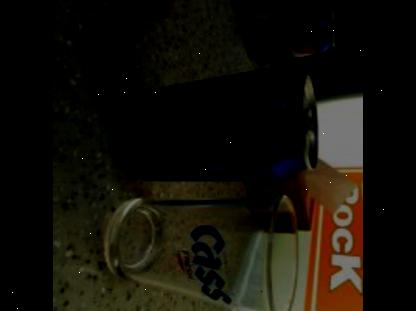Can: (116, 71, 319, 182), (246, 6, 337, 67)
